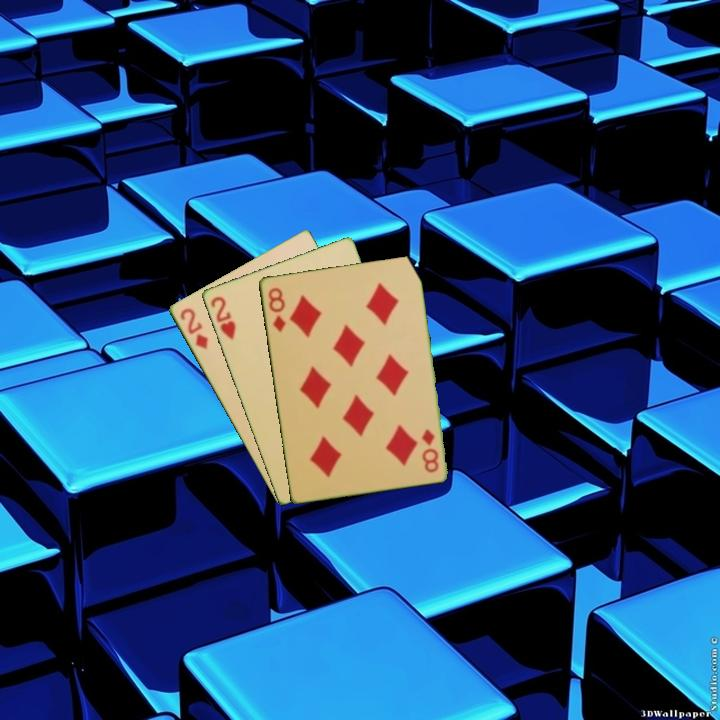2d: (176, 304, 211, 352)
2h: (207, 292, 238, 343)
8d: (264, 284, 289, 335), (418, 425, 441, 475)
